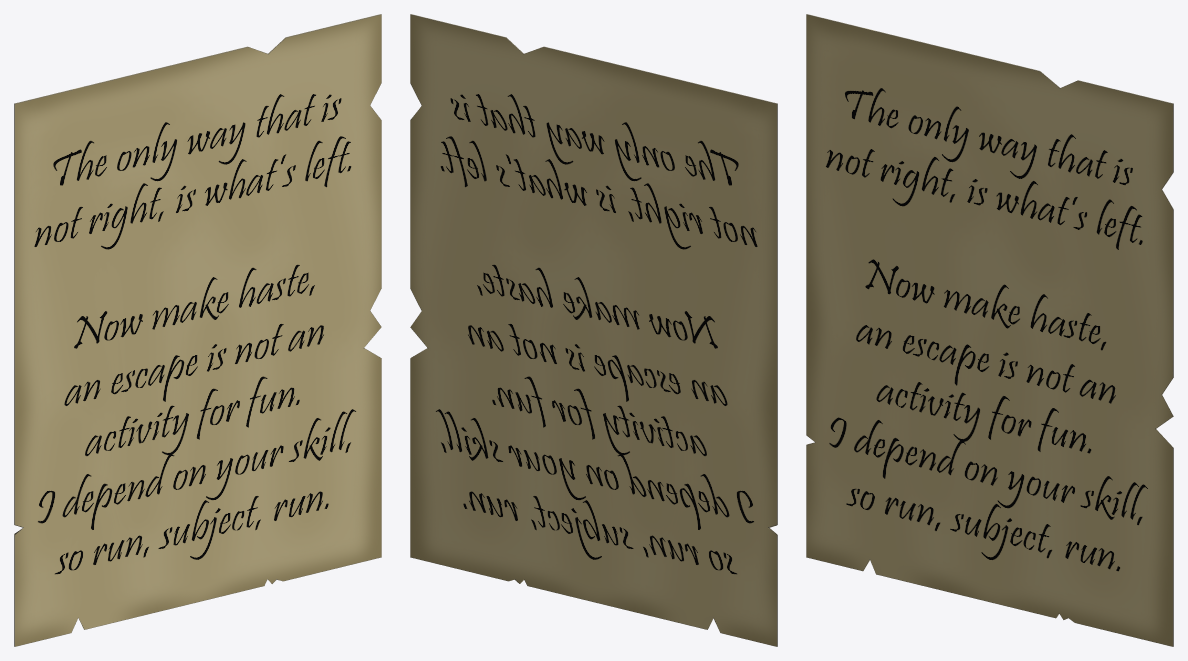
File: p_note_2.fbx
3 renders of one model, left to right at view 1: azimuth 30°, elevation 25°; view 2: azimuth 150°, elevation 25°; view 3: azimuth 330°, elevation 25°, orthographic.
Visible parts, largest first — view 1: pCube1; view 2: pCube1; view 3: pCube1.
Boxes of the visible parts, x1,y1,x2,y2 form: pCube1: [14, 14, 381, 646]; pCube1: [410, 14, 777, 646]; pCube1: [806, 14, 1173, 646].
Bounding box in the file's own units: 42 × 59.4 × 0.1135.
